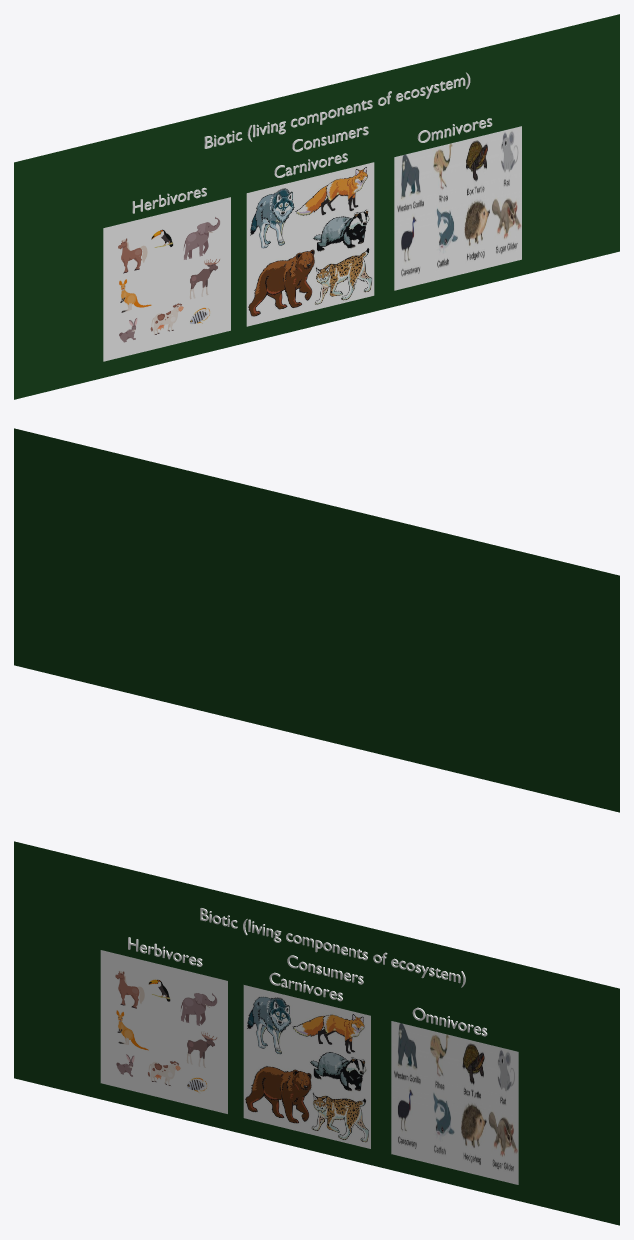
The model's file is consumers.gltf.
3 views of the same model, one above another, from view 1: azimuth 30°, elevation 25°; view 2: azimuth 150°, elevation 25°; view 3: azimuth 330°, elevation 25° (orthographic).
Visible parts, largest first — view 1: Plane.013, Plane.002, Plane.001, Plane.003, Text.001; view 2: Plane.013; view 3: Plane.013, Plane.001, Plane.003, Plane.002, Text.001, Text.002.
Boxes of the visible parts, left/top/right/bottom form: Plane.013: left=14, top=14, right=619, bottom=399; Plane.002: left=246, top=162, right=374, bottom=326; Plane.001: left=103, top=197, right=230, bottom=361; Plane.003: left=394, top=126, right=521, bottom=290; Text.001: left=204, top=72, right=470, bottom=148; Plane.013: left=14, top=428, right=619, bottom=812; Plane.013: left=14, top=841, right=619, bottom=1225; Plane.001: left=100, top=950, right=227, bottom=1113; Plane.003: left=391, top=1021, right=518, bottom=1184; Plane.002: left=243, top=985, right=370, bottom=1148; Text.001: left=200, top=908, right=465, bottom=987; Text.002: left=128, top=937, right=202, bottom=966.
Size of the model in its own units: 15.94 by 5.96 by 0.1404.
Materials: 9 (3 with a texture image).
